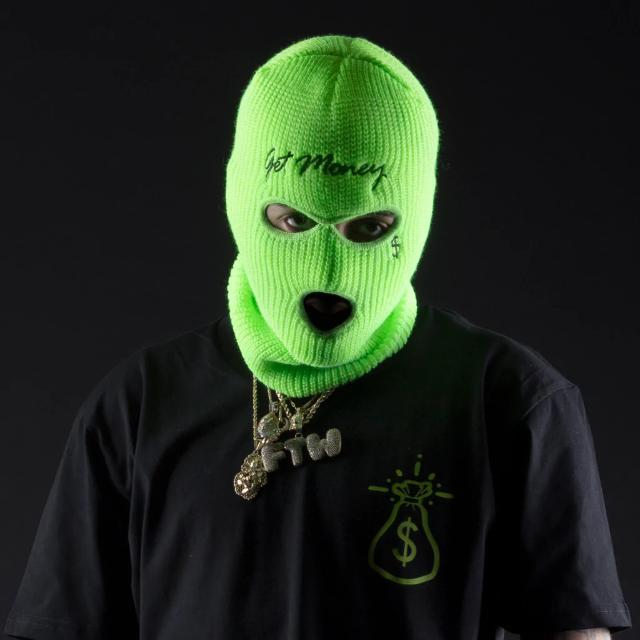criminal: (1, 33, 635, 640)
